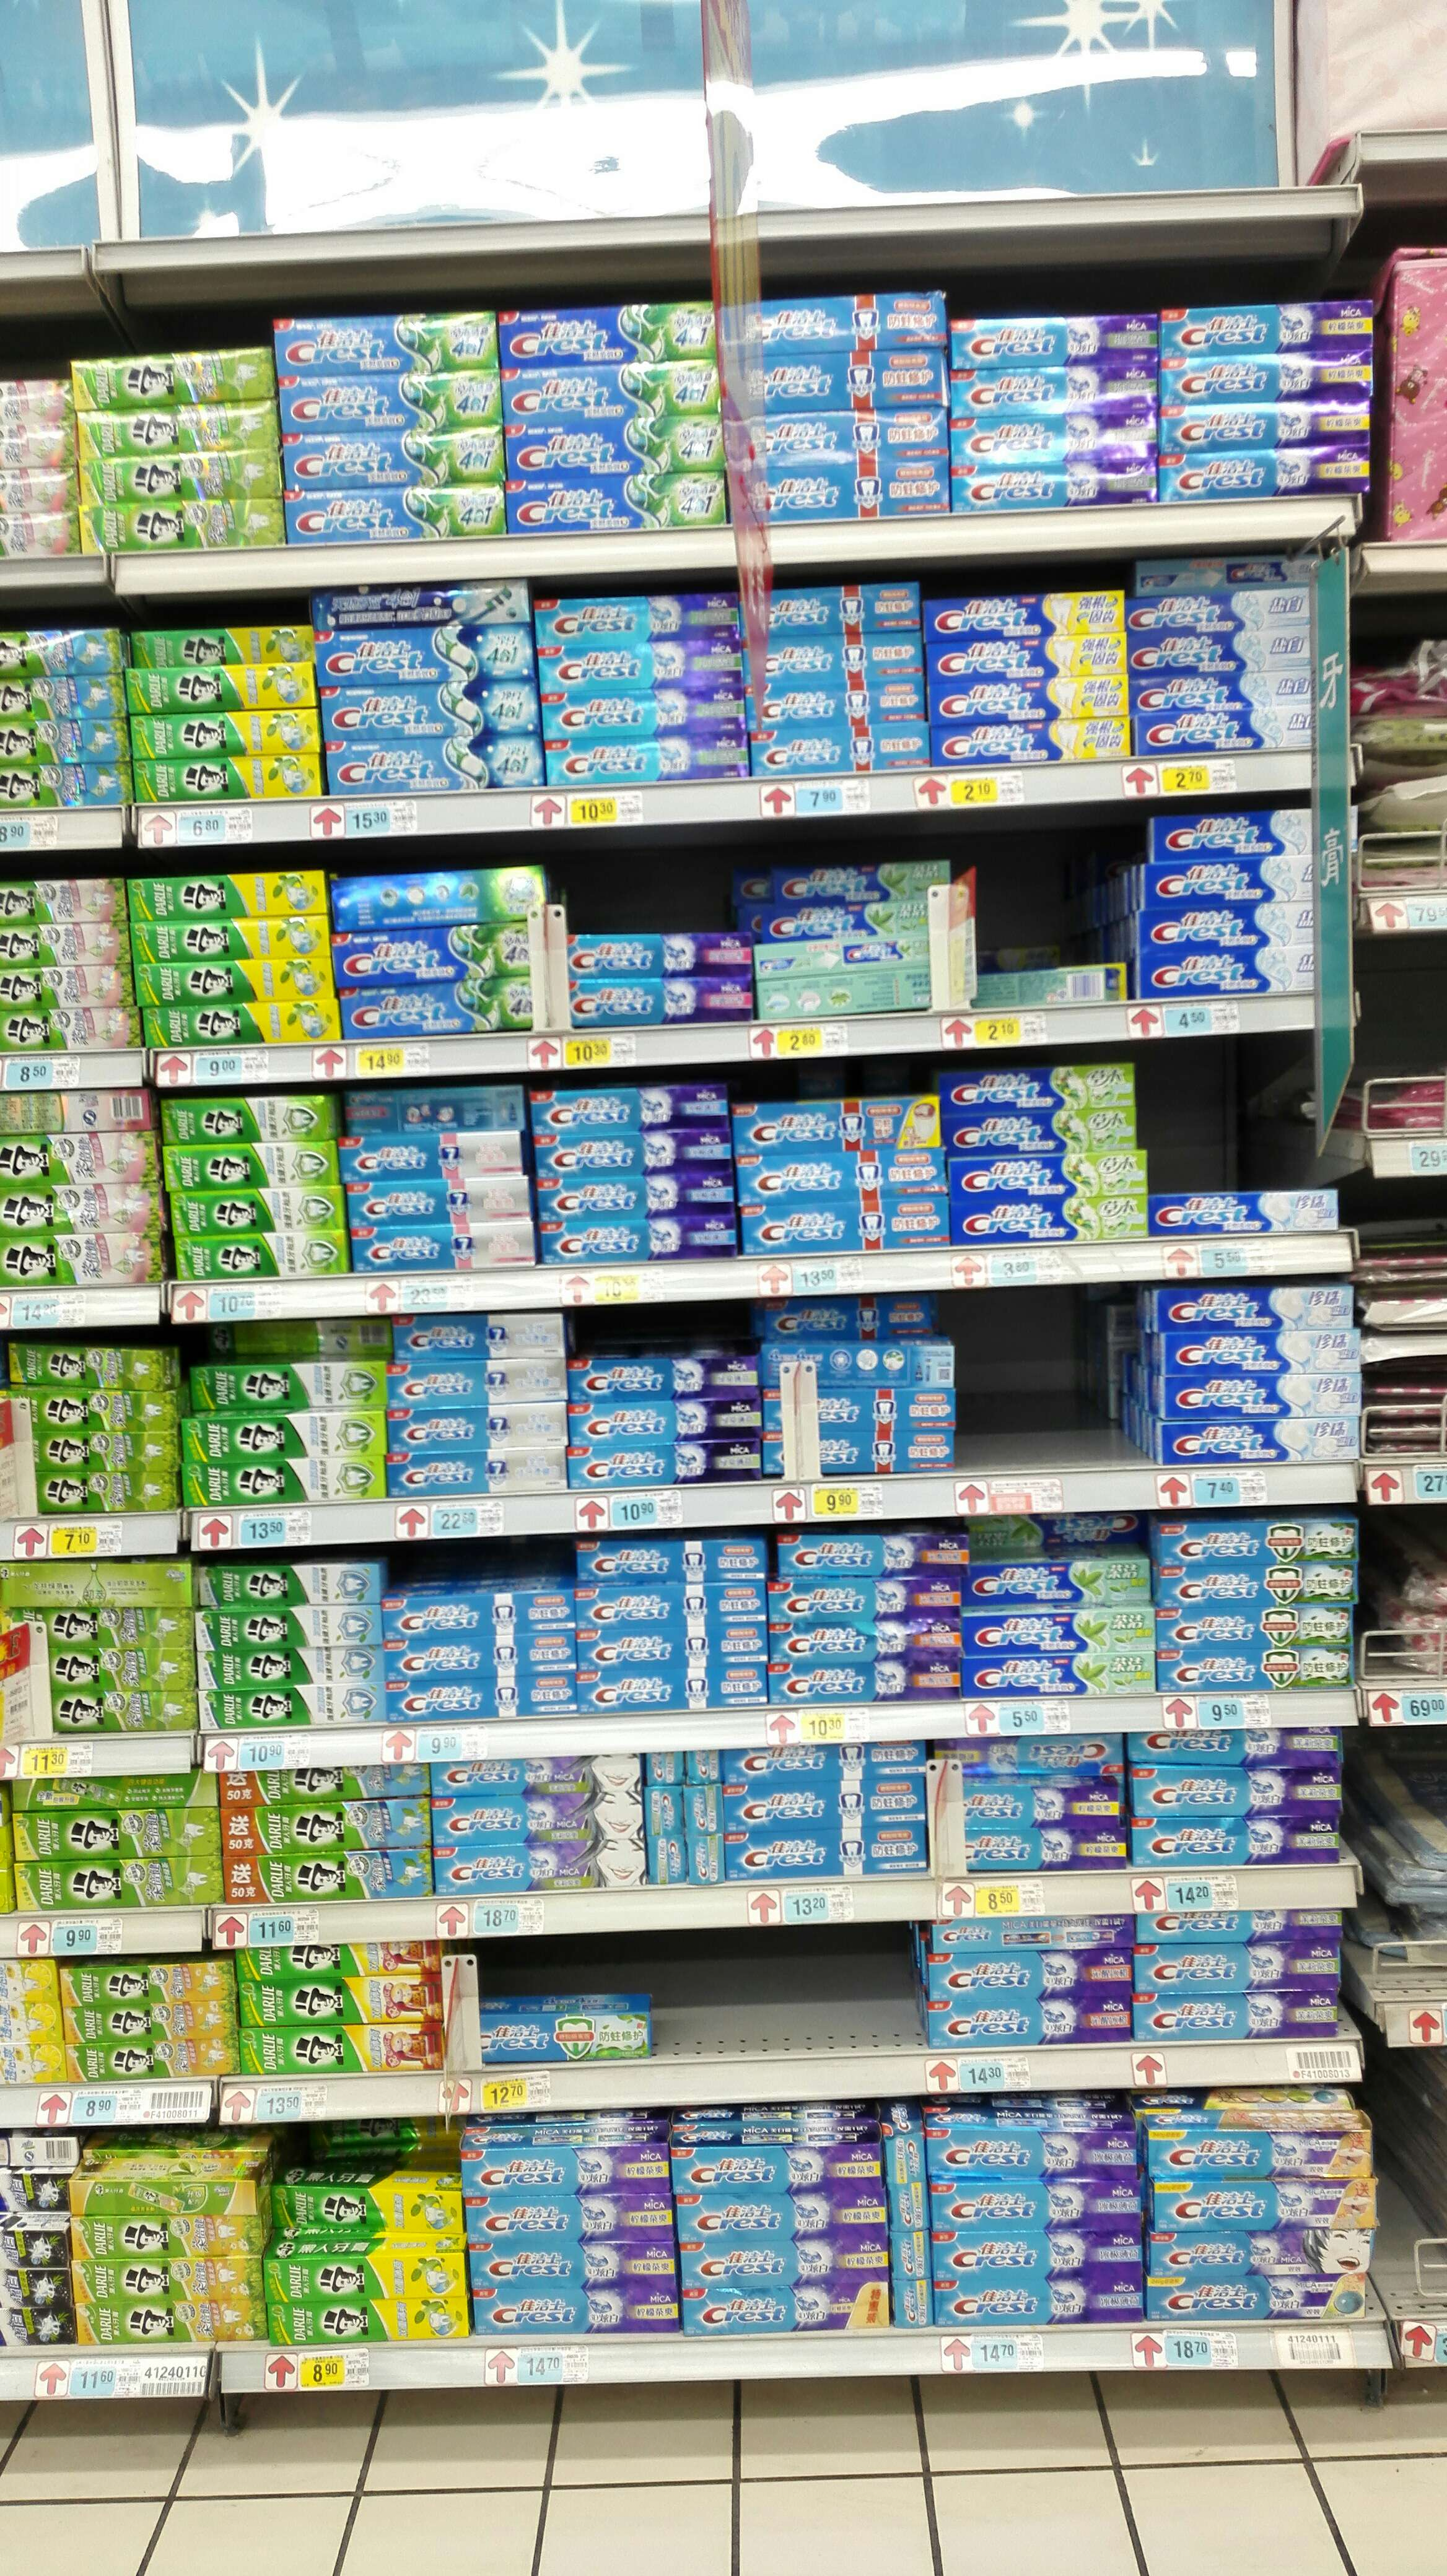product: (930, 2100, 1137, 2174), (1148, 2107, 1371, 2176), (269, 2233, 469, 2300), (483, 1989, 653, 2066), (723, 465, 952, 522), (718, 409, 946, 465), (718, 294, 946, 350), (285, 488, 508, 545), (283, 375, 504, 432), (720, 352, 945, 407), (278, 318, 501, 373), (508, 472, 723, 529), (1150, 2181, 1378, 2235), (333, 925, 545, 982), (1160, 301, 1376, 356), (501, 304, 715, 359), (279, 2166, 469, 2227), (743, 1203, 955, 1258), (325, 869, 543, 922), (950, 313, 1160, 368), (506, 412, 722, 465), (285, 432, 501, 485), (504, 361, 718, 414), (322, 686, 541, 738), (936, 2178, 1139, 2233), (12, 1813, 219, 1867), (334, 985, 554, 1035), (76, 502, 287, 554), (74, 453, 285, 504), (325, 743, 541, 793), (923, 2003, 1139, 2052), (1130, 1766, 1346, 1815), (184, 1410, 391, 1461), (734, 1104, 941, 1155), (324, 632, 531, 683), (1130, 1819, 1344, 1868), (1150, 2235, 1378, 2281), (722, 1831, 925, 1882), (1157, 456, 1367, 506), (73, 403, 283, 453), (67, 352, 278, 402), (1159, 405, 1367, 455), (219, 1806, 428, 1856), (223, 1856, 430, 1905), (433, 1847, 640, 1897), (923, 1955, 1137, 2003), (1150, 1191, 1355, 1238), (543, 736, 748, 784), (679, 2199, 884, 2247), (471, 2289, 676, 2337), (1137, 1948, 1343, 1996), (532, 1085, 729, 1134), (923, 591, 1125, 639), (939, 2238, 1148, 2284), (764, 1343, 957, 1392), (246, 2031, 446, 2079), (541, 686, 748, 732), (463, 2148, 670, 2194), (1160, 359, 1374, 403), (950, 372, 1155, 418), (471, 2240, 676, 2286), (929, 1828, 1125, 1875), (430, 1799, 640, 1844), (932, 1778, 1127, 1826), (65, 2171, 267, 2217), (1155, 1559, 1357, 1605), (536, 640, 745, 685), (536, 594, 745, 639), (670, 2107, 879, 2151), (1150, 2286, 1376, 2327), (676, 2153, 883, 2197), (939, 2282, 1146, 2327), (433, 1753, 640, 1798), (968, 1658, 1157, 1706), (540, 1219, 743, 1263), (16, 1867, 219, 1911), (241, 1985, 444, 2029), (1153, 1421, 1357, 1465), (1155, 1608, 1359, 1652), (566, 978, 754, 1026), (389, 1675, 575, 1723), (578, 1667, 771, 1713), (679, 2293, 888, 2335), (394, 1309, 566, 1361), (269, 2302, 467, 2346), (775, 1530, 973, 1575), (950, 419, 1155, 462), (723, 1785, 929, 1828), (356, 1224, 538, 1272), (126, 876, 322, 920), (754, 727, 929, 777), (953, 1198, 1148, 1242), (1145, 1999, 1339, 2043), (573, 1539, 768, 1583), (952, 467, 1153, 510), (1153, 1288, 1355, 1330), (133, 759, 325, 803), (570, 1445, 762, 1490), (318, 586, 527, 626), (2, 1566, 193, 1610), (973, 1559, 1155, 1605), (571, 1355, 761, 1399), (775, 1665, 964, 1709), (0, 1185, 163, 1237), (1130, 1725, 1344, 1764), (950, 1111, 1137, 1155), (195, 1366, 389, 1408), (536, 1177, 738, 1217), (679, 2249, 890, 2288), (0, 1693, 193, 1736), (771, 1624, 964, 1667), (196, 1606, 380, 1651), (764, 1437, 964, 1477), (463, 2197, 672, 2236), (218, 1764, 426, 1803), (559, 931, 750, 973), (69, 2220, 267, 2261), (755, 978, 962, 1017), (752, 901, 959, 939), (739, 1157, 946, 1196), (62, 1959, 237, 2005), (73, 2304, 262, 2346), (966, 1614, 1155, 1656), (945, 1154, 1150, 1192), (1160, 1376, 1366, 1415), (722, 1744, 927, 1783), (172, 1235, 352, 1279), (394, 1447, 568, 1493), (945, 1062, 1132, 1104), (1160, 1334, 1364, 1373), (1132, 630, 1311, 674), (7, 1343, 179, 1389), (1157, 1522, 1359, 1560), (775, 1582, 968, 1622), (161, 1097, 338, 1141), (352, 1180, 536, 1223), (203, 1318, 387, 1361), (929, 640, 1129, 679), (0, 1240, 163, 1288), (1137, 860, 1313, 904), (133, 715, 322, 755), (127, 667, 317, 708), (127, 924, 333, 961), (0, 1610, 195, 1649), (73, 2261, 267, 2300), (745, 632, 922, 674), (923, 1916, 1136, 1951), (134, 964, 327, 1003), (193, 1691, 386, 1730), (934, 1736, 1127, 1775), (929, 722, 1130, 759), (241, 1944, 442, 1982), (1160, 1656, 1362, 1693), (752, 679, 927, 722), (384, 1594, 575, 1633), (930, 681, 1130, 718), (65, 2043, 239, 2086), (1134, 909, 1314, 950), (345, 1092, 525, 1132), (4, 1090, 156, 1138), (389, 1637, 575, 1675), (768, 1392, 962, 1430), (7, 1431, 184, 1472), (12, 1775, 216, 1810), (578, 1587, 771, 1624), (341, 1138, 532, 1175), (4, 1651, 195, 1688), (571, 1407, 762, 1444), (0, 1138, 159, 1182), (4, 1391, 184, 1430), (745, 587, 925, 626), (172, 1187, 343, 1228), (127, 626, 315, 663), (1146, 812, 1309, 855), (1141, 1911, 1346, 1944), (1137, 713, 1314, 752), (188, 1465, 391, 1499), (762, 1304, 946, 1341), (142, 1008, 334, 1044), (1134, 954, 1316, 991), (769, 860, 959, 895), (578, 1629, 768, 1665), (2, 1472, 180, 1509), (973, 1518, 1152, 1555), (394, 1410, 571, 1447), (394, 1366, 571, 1403), (200, 1564, 377, 1601), (536, 1138, 729, 1171), (1132, 556, 1314, 591), (196, 1652, 387, 1686), (165, 1146, 341, 1182), (62, 2005, 237, 2040), (1129, 596, 1311, 630), (752, 943, 959, 971), (973, 970, 1132, 1005), (0, 1008, 136, 1049), (2, 924, 126, 968), (0, 676, 124, 720), (456, 2120, 669, 2144), (0, 630, 122, 672), (2, 878, 122, 920), (1137, 679, 1316, 708), (0, 724, 127, 763), (0, 766, 127, 805), (2, 973, 127, 1008), (884, 2125, 927, 2183), (895, 2233, 934, 2284), (892, 2185, 932, 2231), (895, 2282, 934, 2330), (644, 1836, 681, 1884), (644, 1787, 681, 1831), (688, 1835, 720, 1886), (686, 1787, 720, 1833), (686, 1748, 720, 1785), (647, 1750, 683, 1783)
